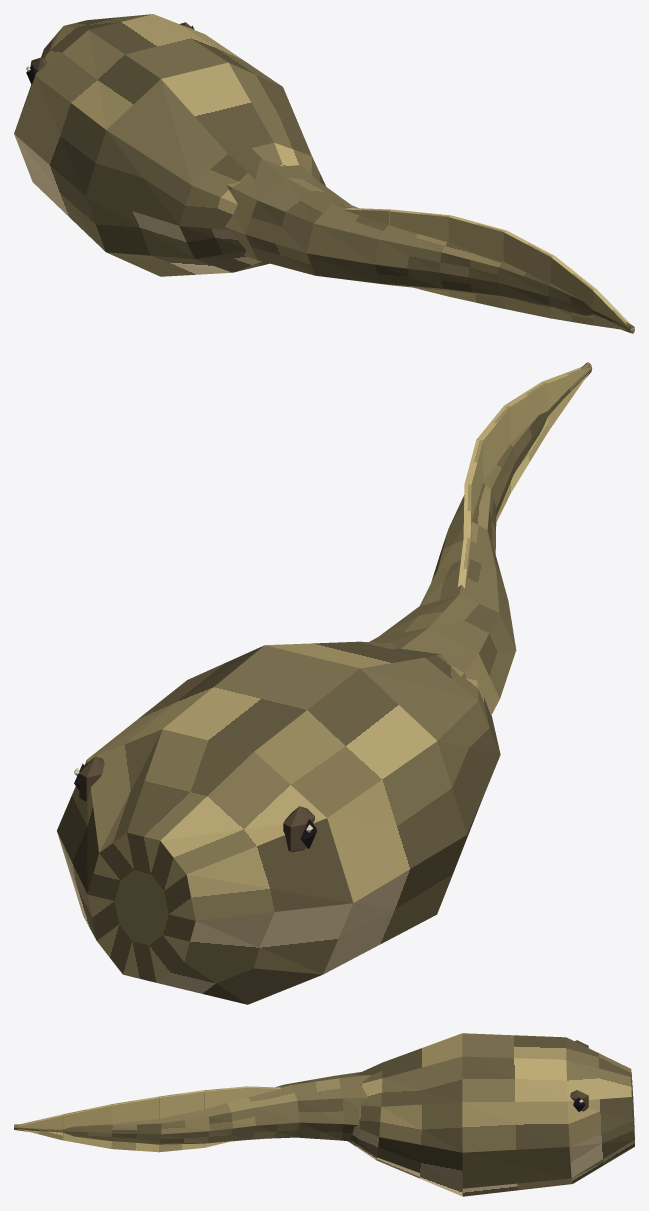
Rendered from mon_pickerel_tadpole.glb.
3 views of the same model, one above another, from view 1: azimuth 30°, elevation 25°; view 2: azimuth 150°, elevation 25°; view 3: azimuth 270°, elevation 25° (orthographic). The views are drawn at different scales.
Parts seen in each view (by area): view 1: closed_body; view 2: closed_body; view 3: closed_body.
Boxes of the visible parts, <box> form: closed_body: <box>14,14,634,333</box>; closed_body: <box>57,362,592,1004</box>; closed_body: <box>14,1033,634,1196</box>.
Size of the model in its own units: 0.027 by 0.0219 by 0.088.
Materials: 1 (1 with a texture image).
